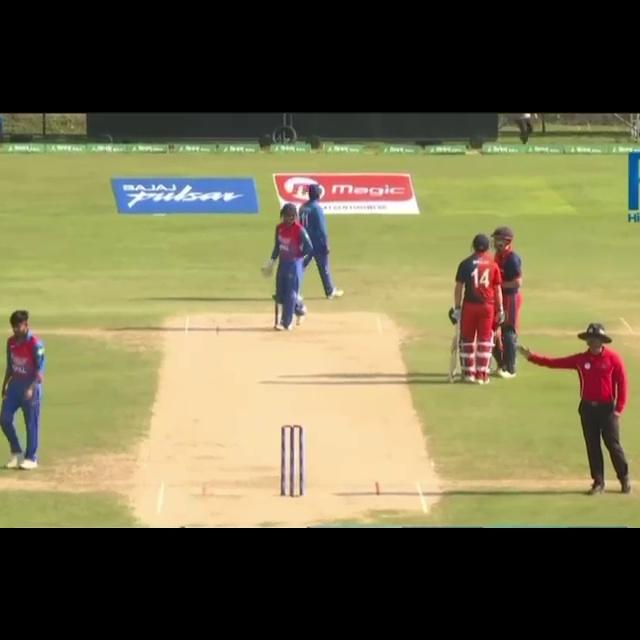umpire: (517, 310, 634, 495)
